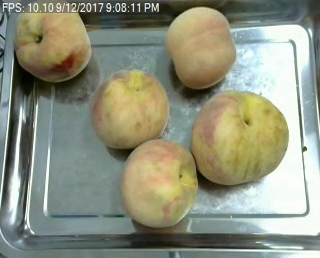Peach: (190, 91, 288, 187), (120, 138, 198, 228), (90, 68, 170, 149), (14, 0, 93, 82), (166, 6, 235, 89)
